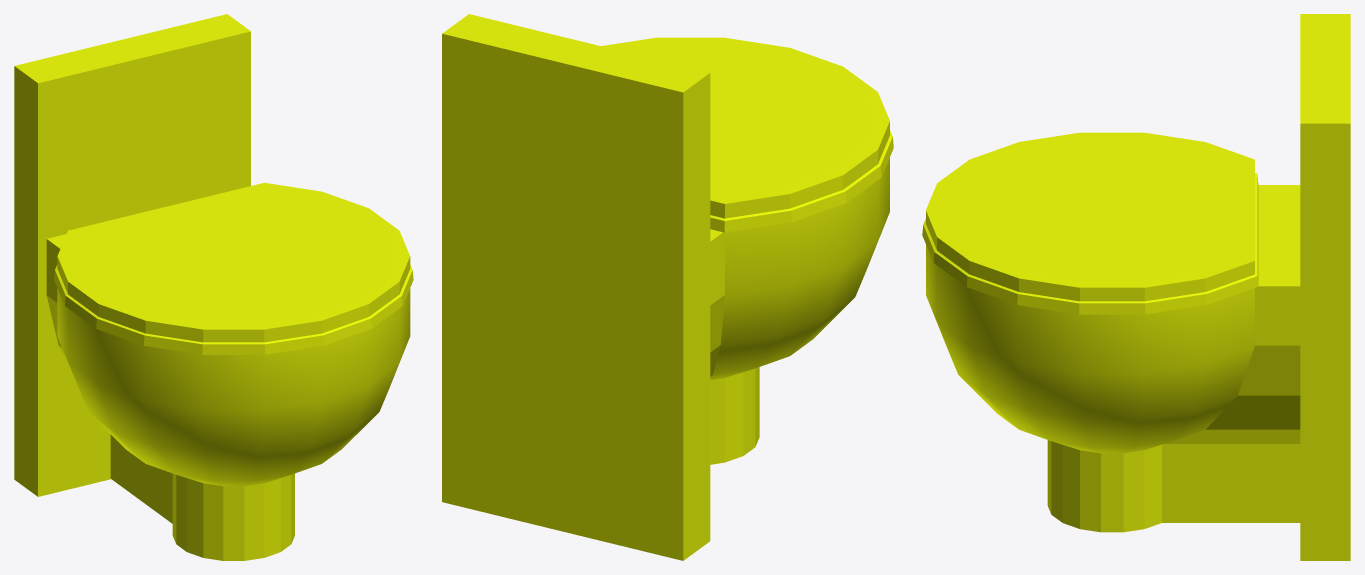
The model's file is Toilet3.FBX.
3 views of the same model, side by side, from view 1: azimuth 30°, elevation 25°; view 2: azimuth 150°, elevation 25°; view 3: azimuth 270°, elevation 25° (orthographic). The views are drawn at different scales.
Parts seen in each view (by area): view 1: Object012; view 2: Object012; view 3: Object012.
Boxes of the visible parts, x1=… form: Object012: x1=14, y1=14, x2=413, y2=560; Object012: x1=442, y1=14, x2=893, y2=560; Object012: x1=922, y1=14, x2=1350, y2=560.
Size of the model in its own units: 1.28 by 1.65 by 1.46.
